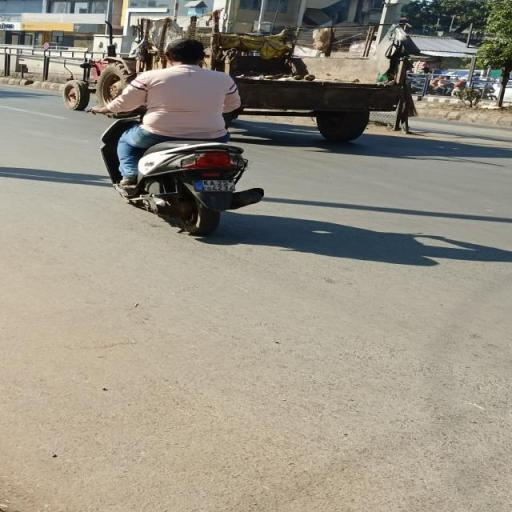bike: (78, 34, 279, 238)
numberplate: (191, 178, 242, 194)
withouthelmet: (168, 40, 204, 64)
